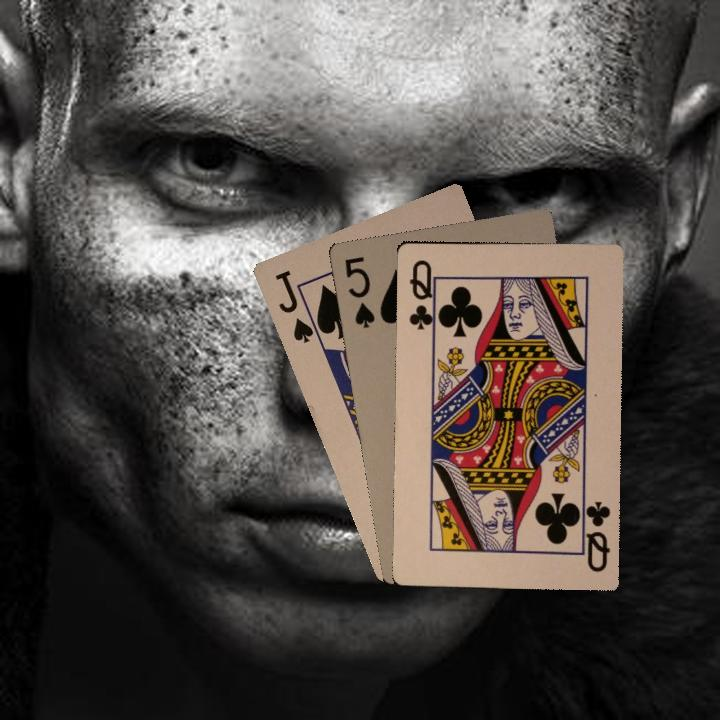5s: (341, 252, 377, 331)
Js: (271, 266, 322, 344)
Qc: (574, 495, 613, 575), (405, 256, 440, 334)
